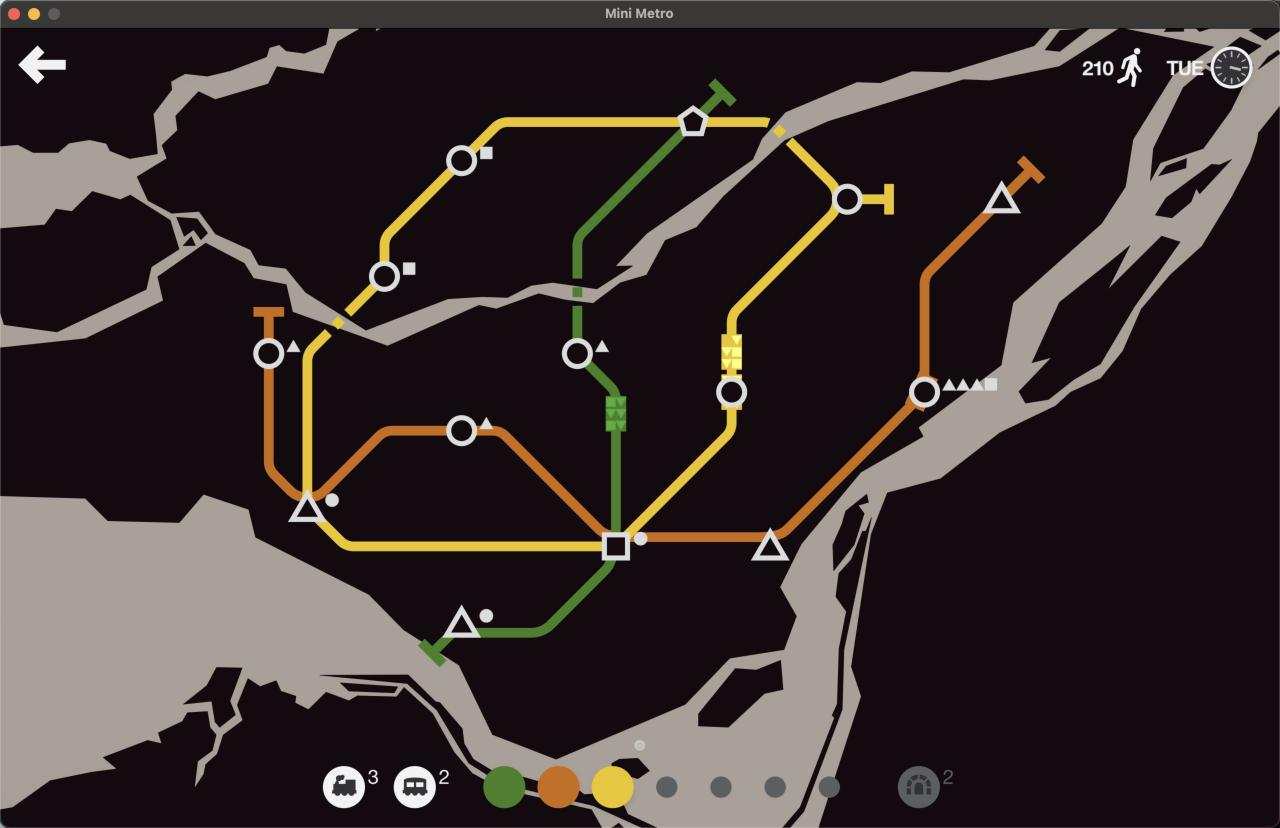CIRCLE: (908, 375, 942, 409), (831, 183, 864, 216), (368, 259, 401, 292), (561, 337, 594, 370), (445, 414, 478, 447), (446, 144, 478, 177), (252, 337, 285, 369), (716, 376, 748, 409)
PENTAGON: (677, 105, 708, 137)
SQUARE: (601, 531, 630, 560)
TRIANGLE: (750, 525, 791, 562), (983, 179, 1023, 215), (442, 604, 481, 639), (288, 489, 325, 523)
